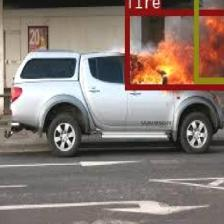fire: (123, 9, 224, 88)
smoke: (193, 0, 224, 82)
